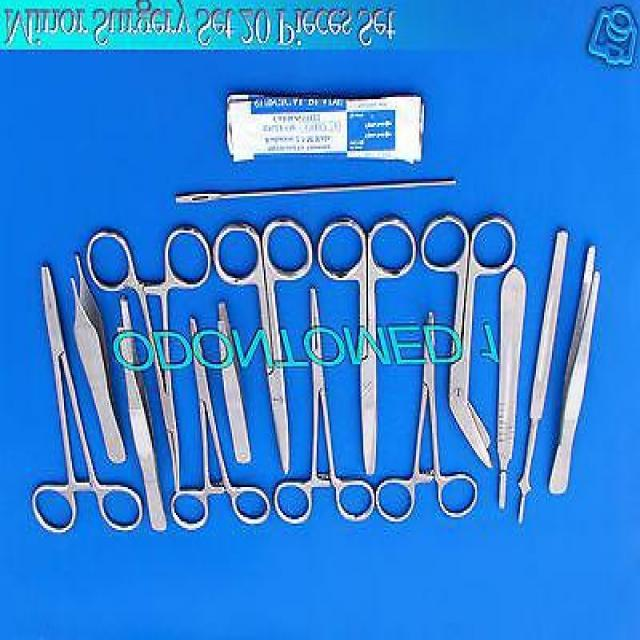Forceps: (546, 239, 604, 498), (115, 293, 170, 537), (70, 248, 128, 466), (216, 295, 253, 468)
Hemostat: (85, 222, 213, 496), (272, 282, 376, 528), (376, 306, 480, 524), (170, 312, 272, 532)
Mayo_metz: (315, 214, 418, 478), (212, 214, 314, 478), (418, 209, 518, 472)
Scalpel: (515, 226, 570, 526), (494, 265, 530, 513)
